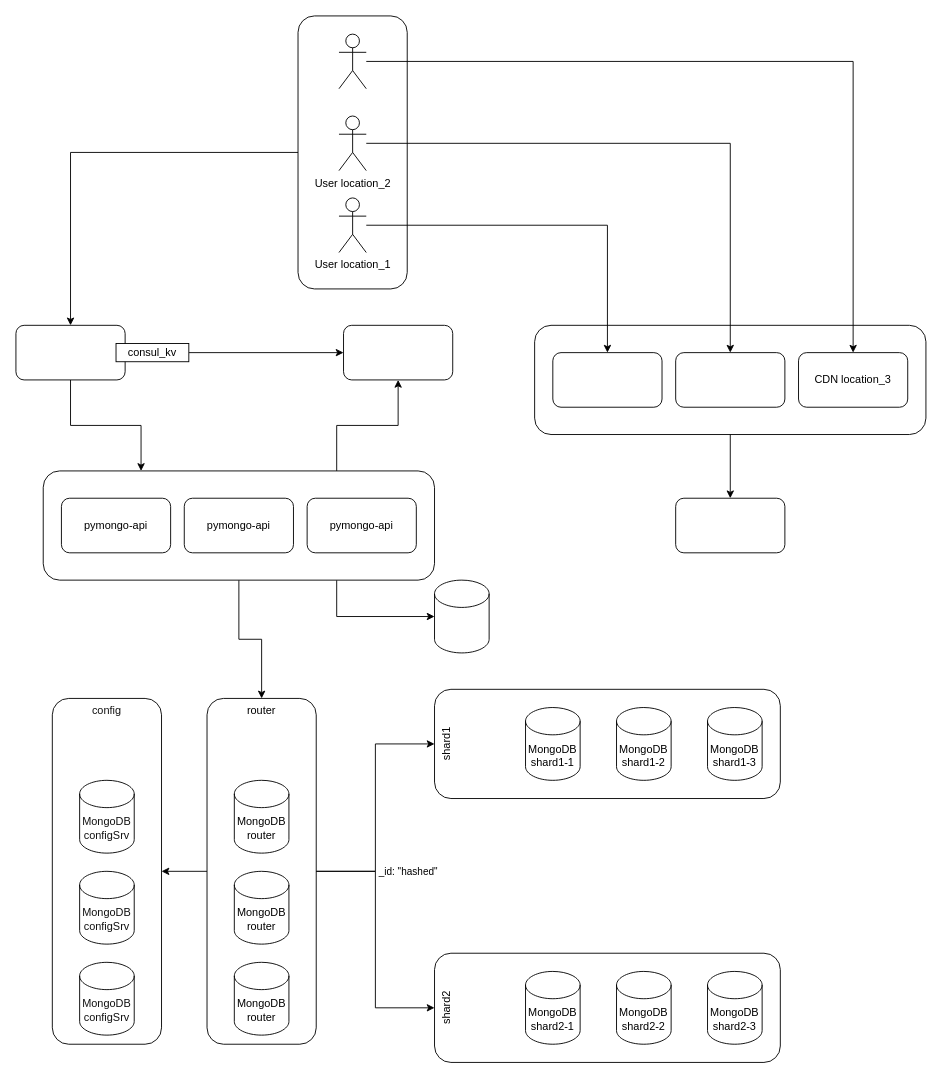
Image size: 942x1078. Some labels were removed from this diagram. The shapes that lost their labels are listed below. From the top down, each one's centre as x and y in pixels, then its label:
At point 352,61: "User location_3".
At point 70,352: "API Gateway".
At point 398,352: "consul".
At point 607,379: "CDN location_1".
At point 730,379: "CDN location_2".
At point 730,525: "website static content".
At point 461,616: "redis".
